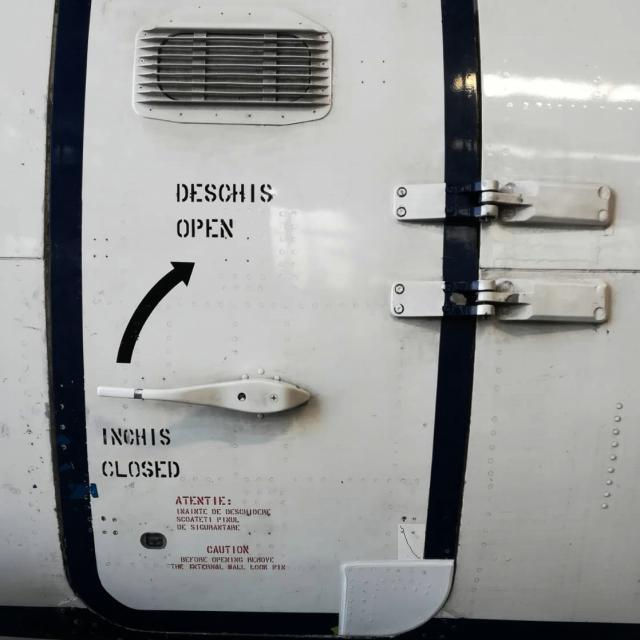crack: (399, 525, 426, 562)
